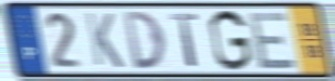2: (44, 11, 84, 70)
D: (121, 9, 168, 72)
E: (248, 10, 300, 72)
G: (207, 8, 254, 73)
K: (83, 10, 126, 70)
T: (168, 11, 201, 69)
